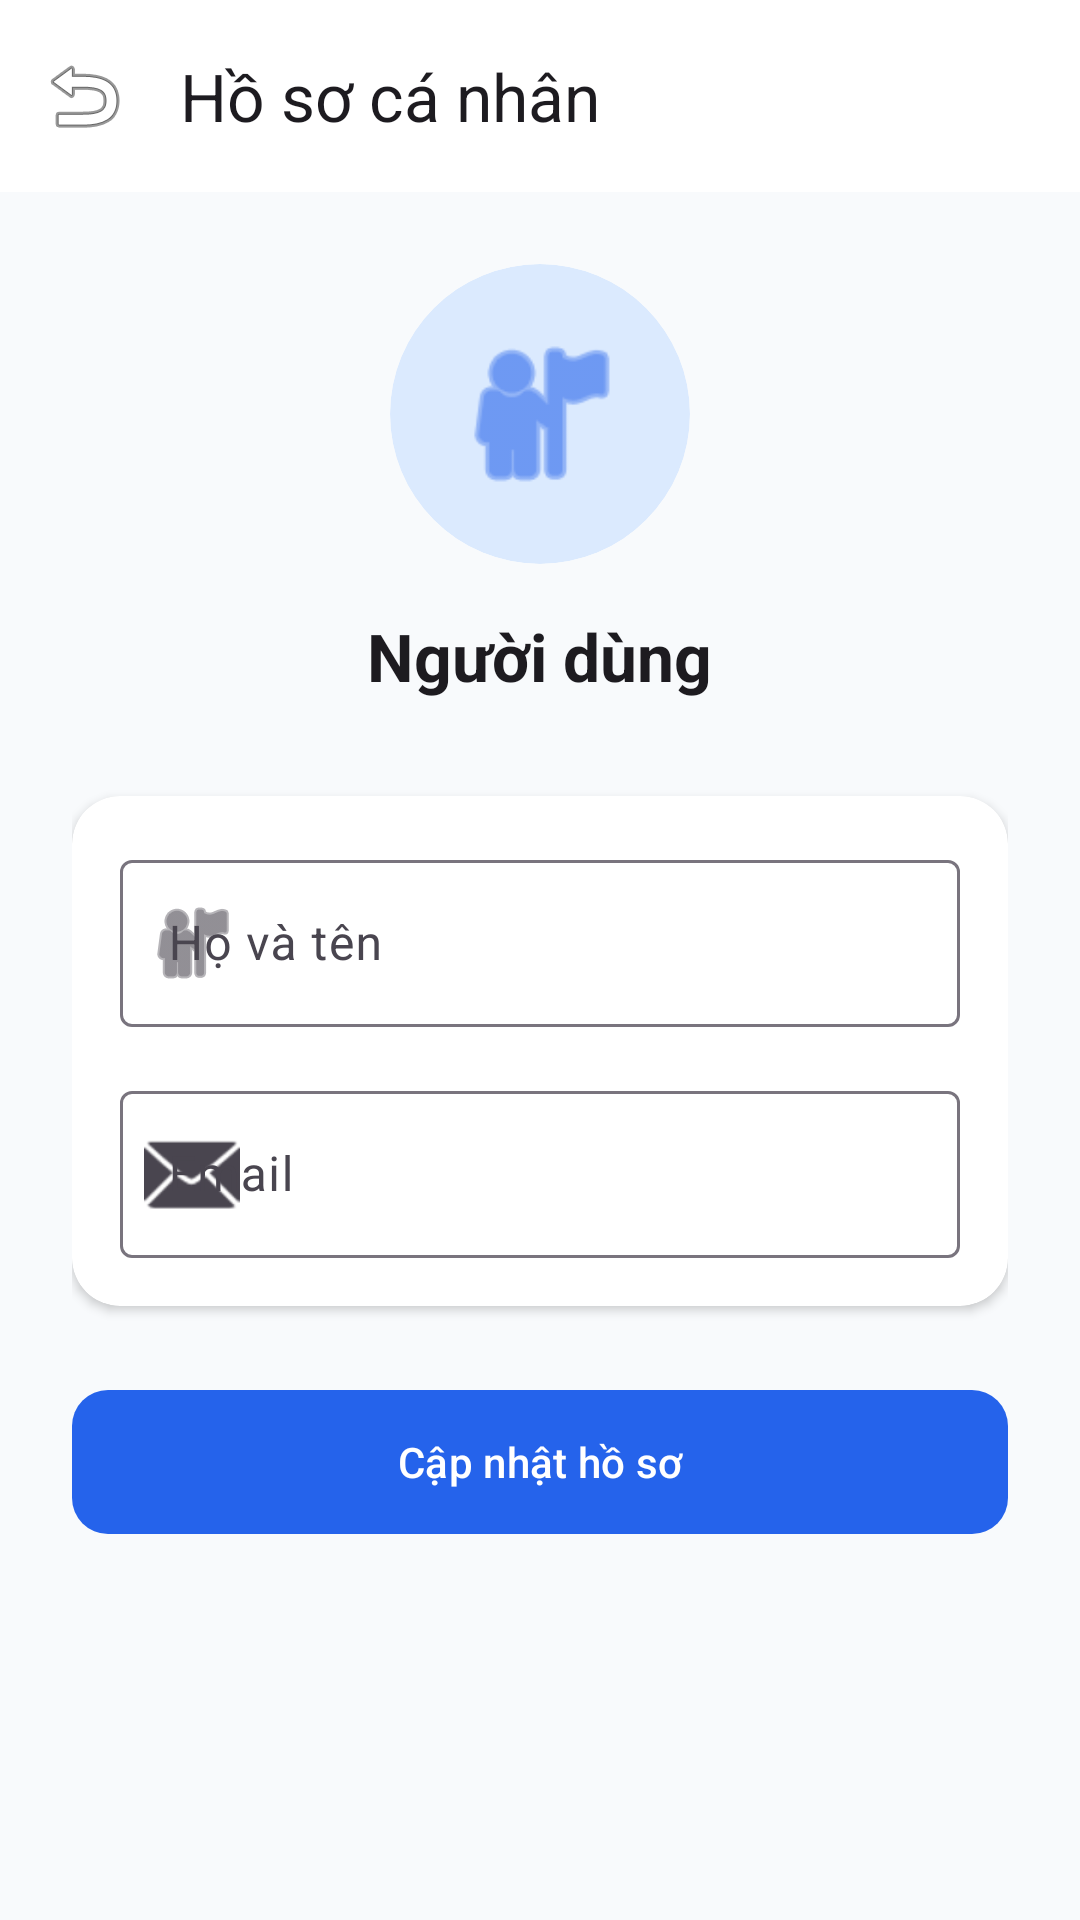

Icons on this 1080*1920 Android screen, each with its box as box=[x1, y1, x2, y2]:
Ảnh đại diện: box=[474, 347, 609, 481]
